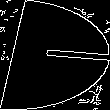L_W: (7, 36, 103, 74)
